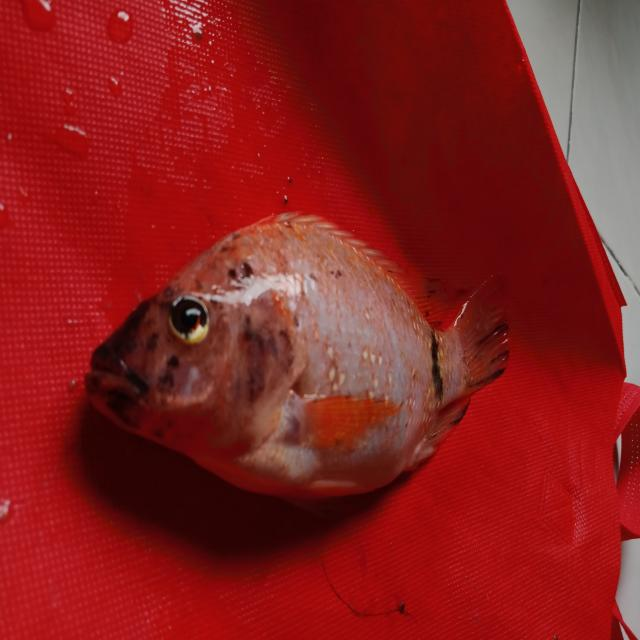ikan: (71, 148, 520, 532)
